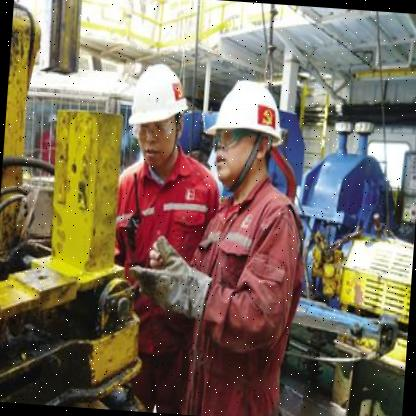capacete: (201, 74, 290, 156), (120, 58, 196, 136)
oculos: (206, 124, 260, 154), (127, 118, 180, 144)
